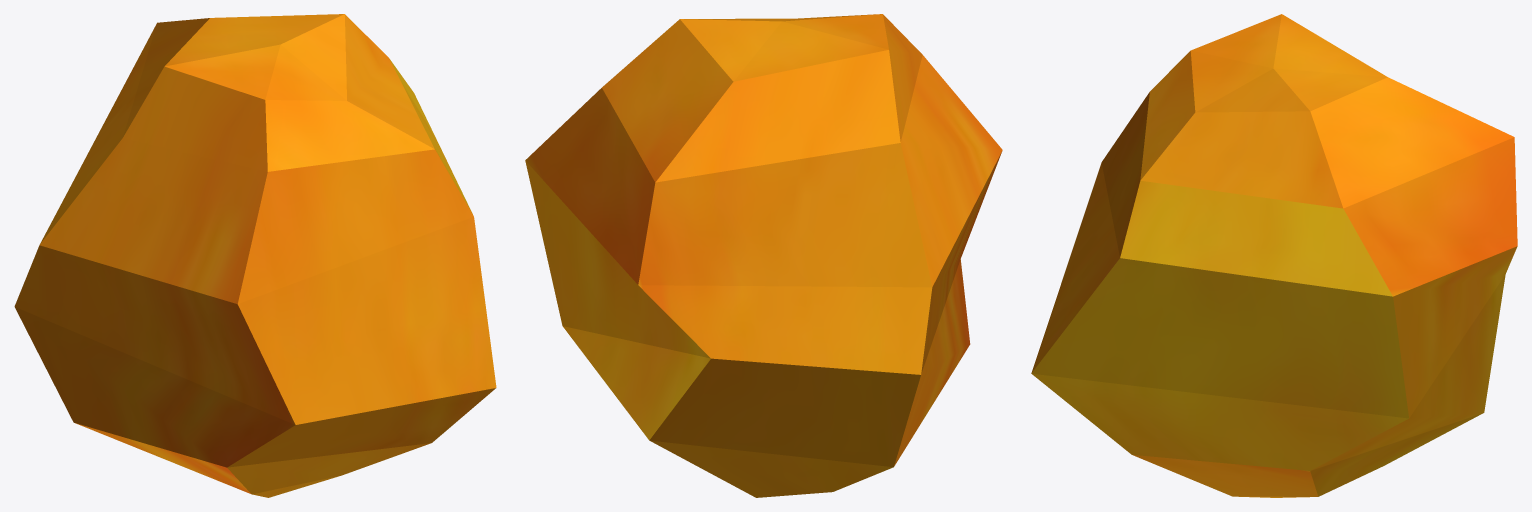
The model's file is Goldentrula.fbx.
3 views of the same model, side by side, from view 1: azimuth 30°, elevation 25°; view 2: azimuth 150°, elevation 25°; view 3: azimuth 270°, elevation 25° (orthographic). The views are drawn at different scales.
Visible parts, largest first — view 1: Sphere; view 2: Sphere; view 3: Sphere.
Boxes of the visible parts, bbox=[...] form: Sphere: bbox=[14, 14, 496, 497]; Sphere: bbox=[525, 14, 1002, 497]; Sphere: bbox=[1031, 14, 1517, 497].
Size of the model in its own units: 191 by 207 by 209.
Materials: 1 (1 with a texture image).
